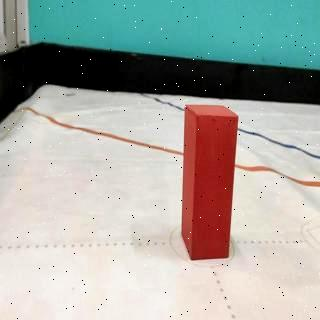redbox: (182, 103, 238, 262)
